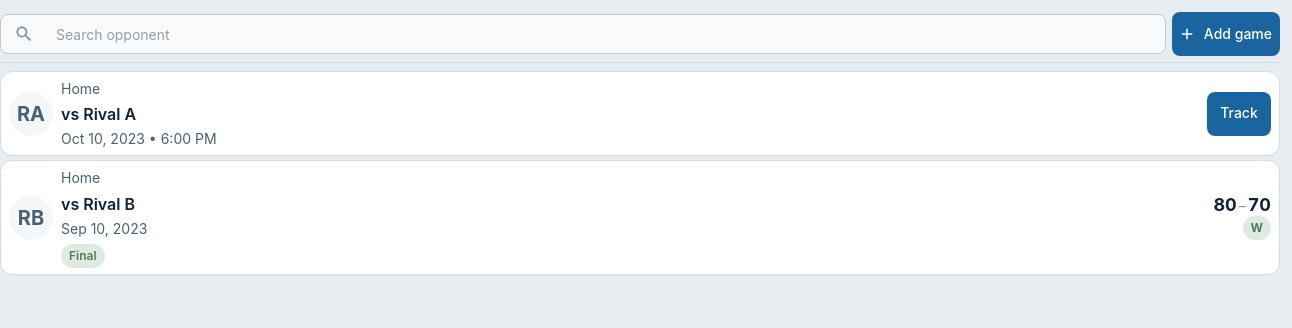
ScheduleTab › renders empty state when no games match search
The width and height of the screenshot is (1292, 328).
Type "Nonexistent" into the field with placeholder "Search opponent".
click(604, 34); type("Nonexistent")  # box top-left (42, 14), bottom-right (1166, 54)
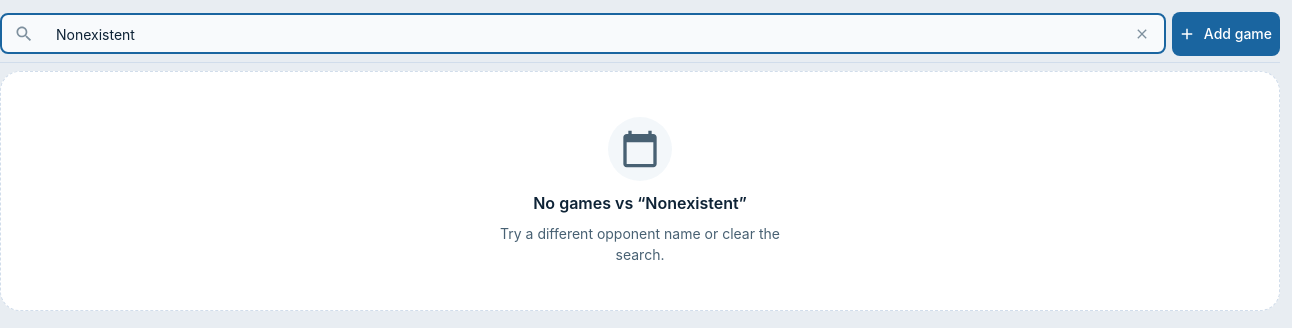
Expected: the text "No games vs “Nonexistent”" is shown, top-left (533, 191), bottom-right (747, 217)
